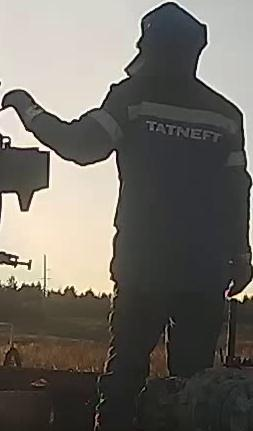gloves: (1, 88, 48, 131), (227, 247, 253, 298)
vest: (105, 84, 251, 273)
